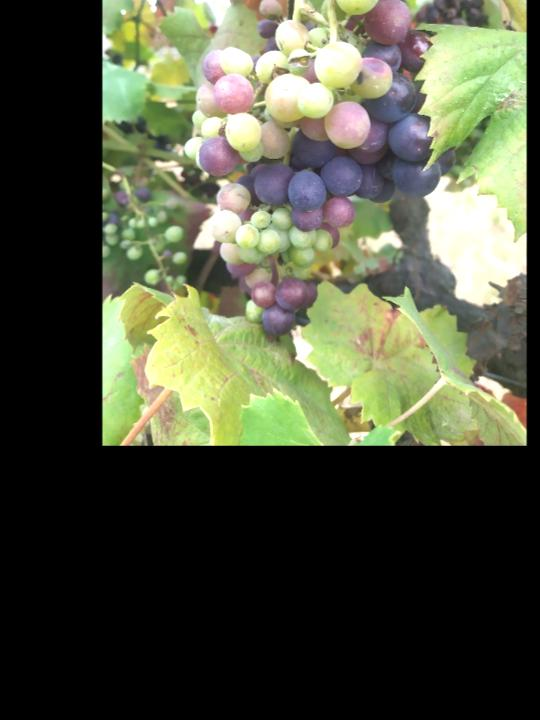grape: (187, 0, 454, 336)
